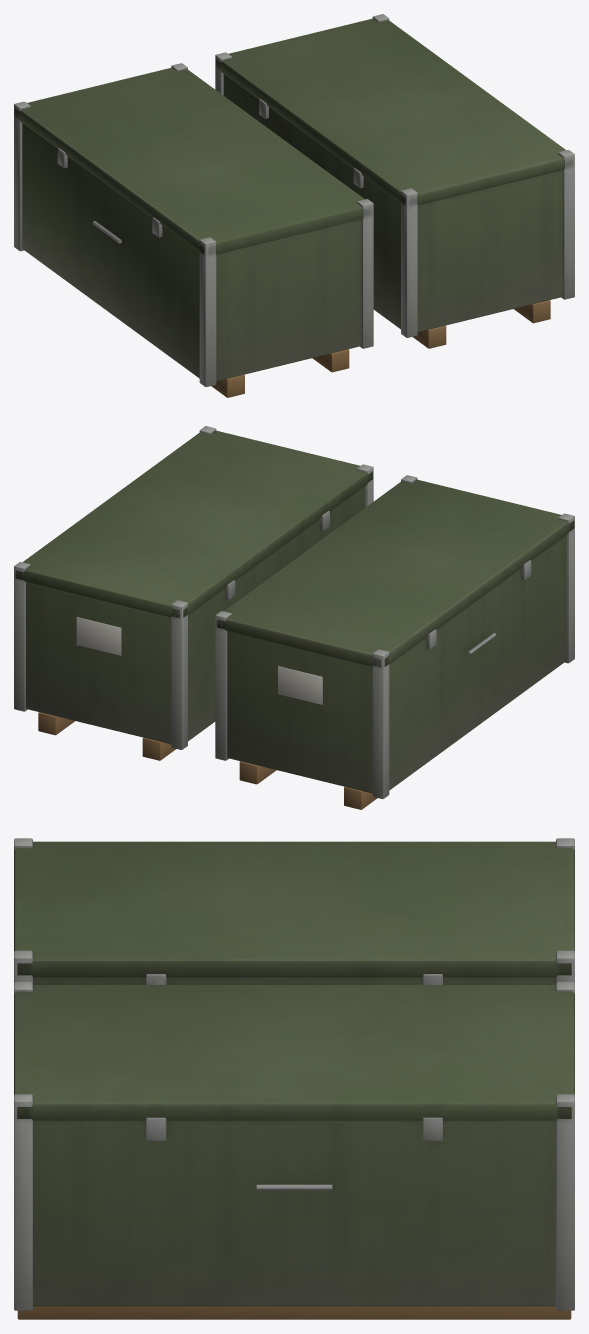
File: series8-stowed-web.glb
3 views of the same model, one above another, from view 1: azimuth 30°, elevation 25°; view 2: azimuth 150°, elevation 25°; view 3: azimuth 270°, elevation 25° (orthographic). The views are drawn at different scales.
Parts seen in each view (by area): view 1: SERIES8_packed; view 2: SERIES8_packed; view 3: SERIES8_packed.
Part boxes in pixels (box(x1,y1,x2,y2)): SERIES8_packed: box(14, 14, 574, 397); SERIES8_packed: box(14, 426, 574, 809); SERIES8_packed: box(14, 838, 574, 1319).
Size of the model in its own units: 2.53 by 1.03 by 2.23.
4 materials, 2 textured.
